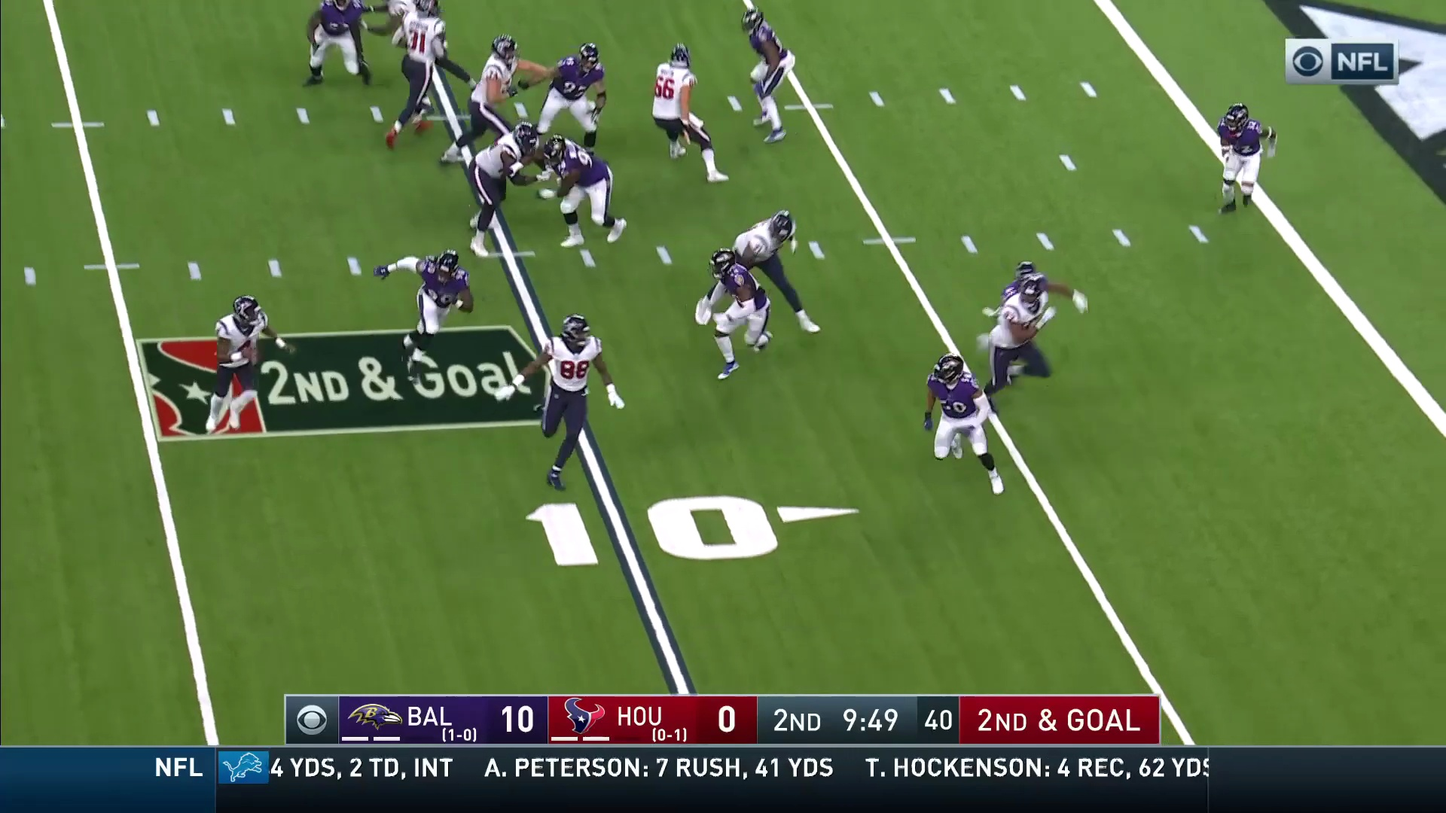Player: (696, 247, 770, 378), (469, 124, 536, 254), (207, 294, 267, 431), (383, 249, 471, 338), (544, 136, 613, 246), (926, 353, 990, 457), (539, 43, 605, 140), (392, 3, 444, 126), (1218, 103, 1268, 211), (653, 43, 699, 157), (307, 0, 369, 83), (471, 35, 517, 138), (388, 0, 444, 54)
